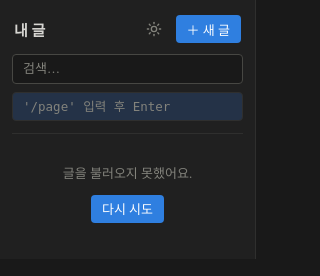
Test case: PostList — 조회 실패와 재시도 (FR-007) › 조회 실패 시 안내 문구와 다시 시도 버튼이 보이고, 재시도로 복구된다
The width and height of the screenshot is (320, 276).
Expected: the text "글을 불러오지 못했어요." is shown, [63,166,192,181]
Step 1. Click the button "다시 시도" → (128, 209), box [91,195,164,223]
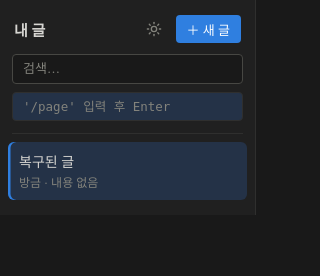
Expected: the text "복구된 글" is shown, [19,155,74,170]
Expected: the text "글을 불러오지 못했어요." is gone
